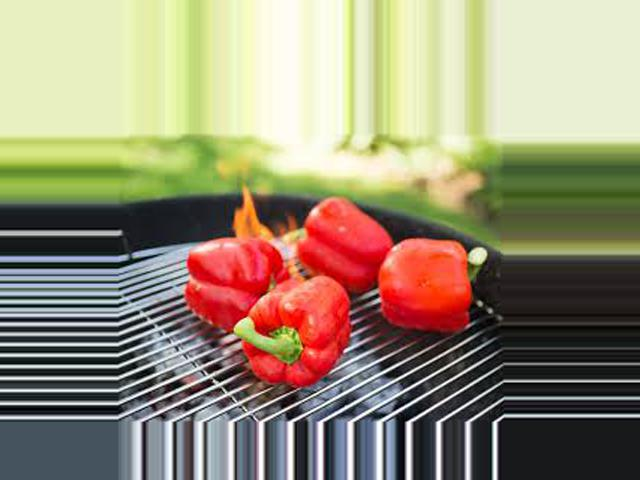bell_pepper: (180, 232, 289, 324)
